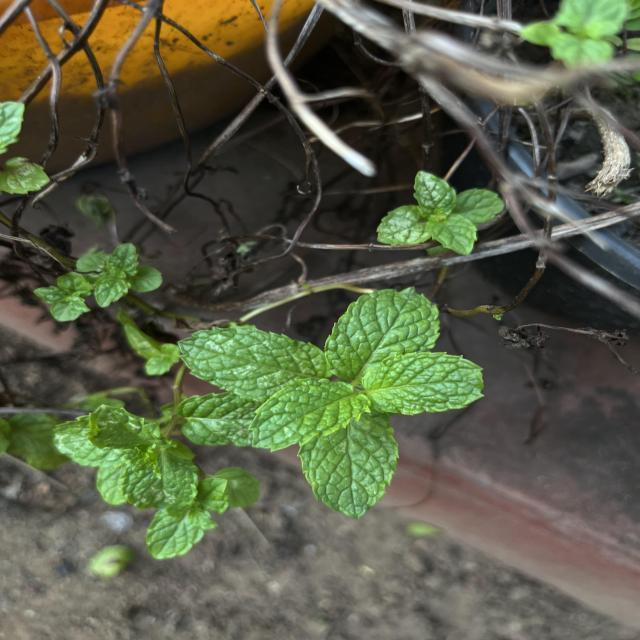Mentha spicata: (248, 378, 372, 454), (362, 349, 487, 417)
